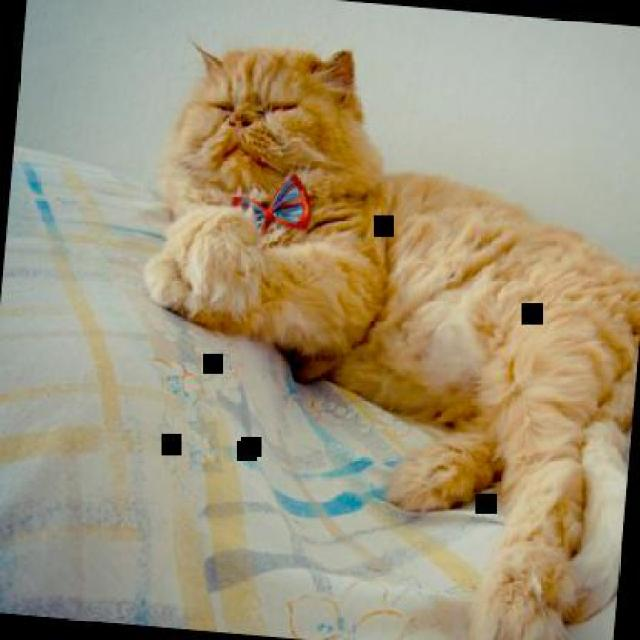cat: (119, 34, 638, 638)
